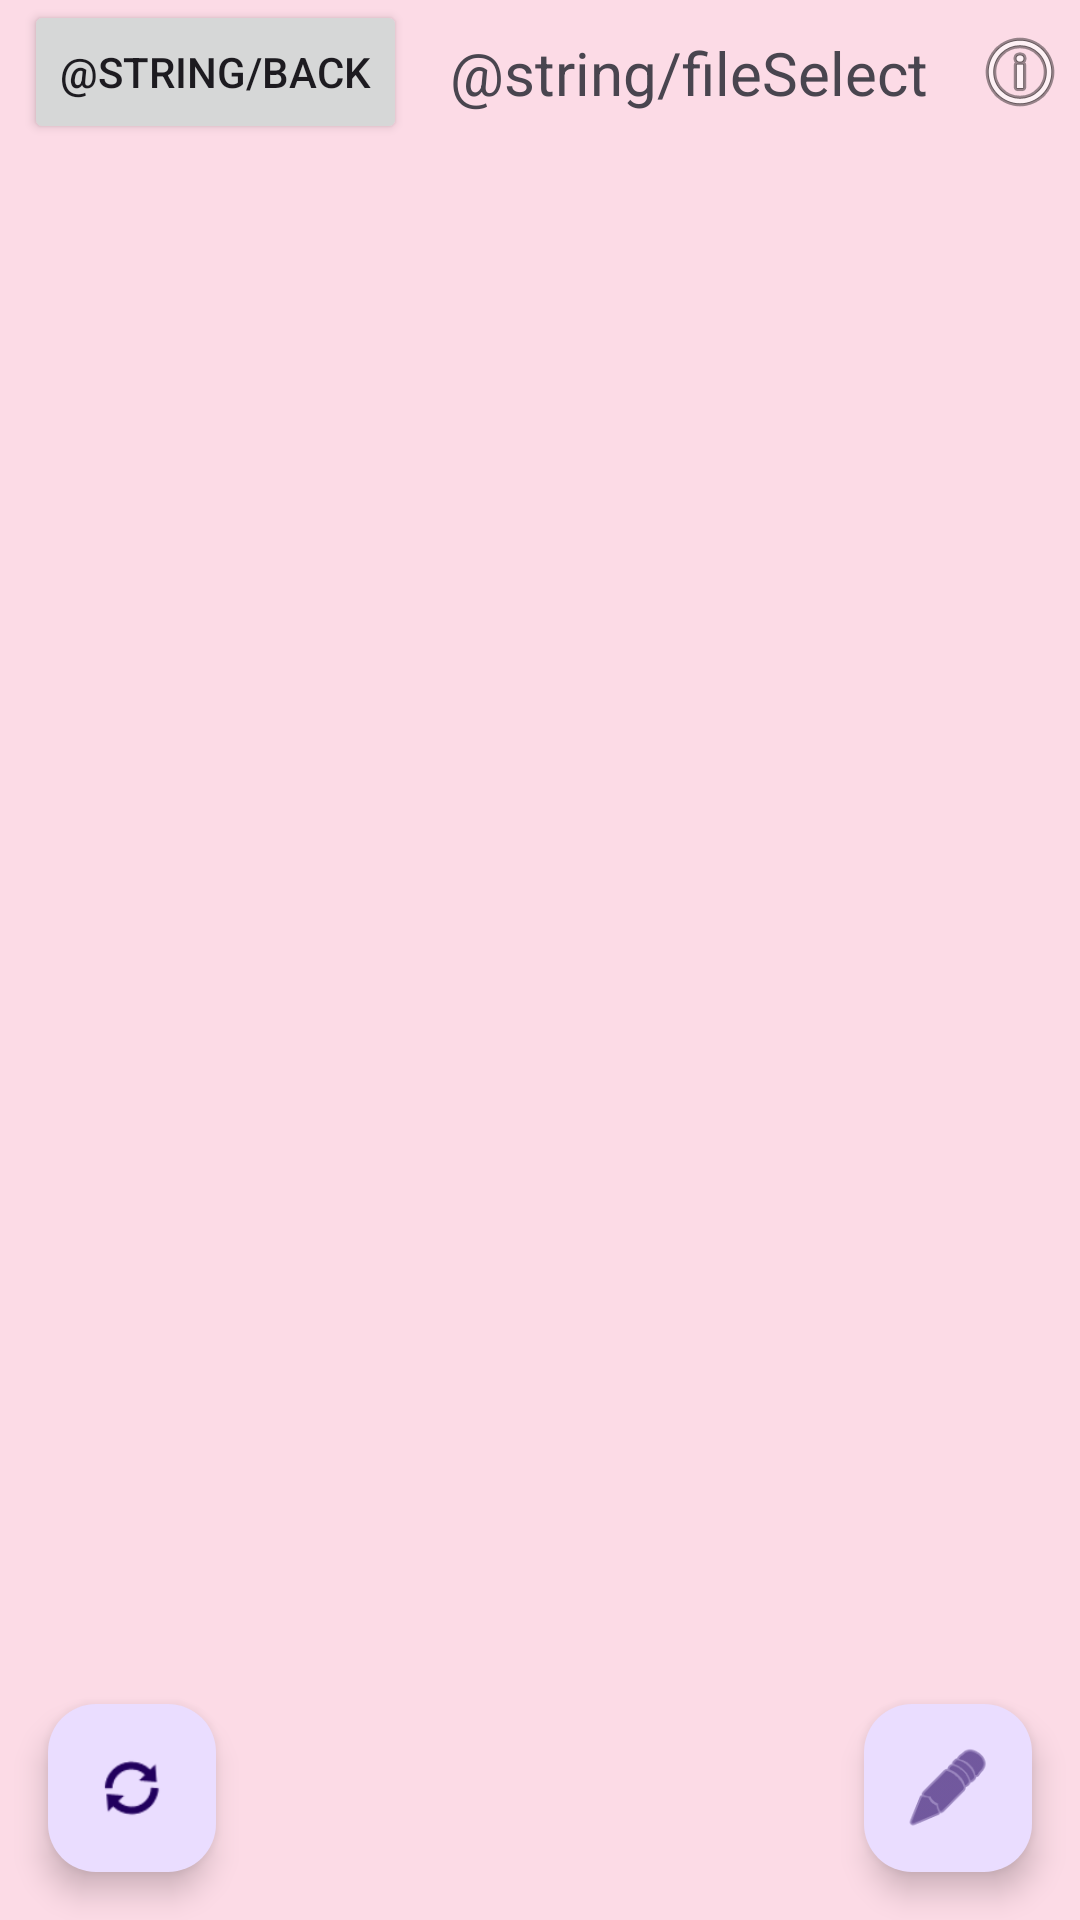

Icons on this 1080 × 1920 Android screen, each with the point to tap as (x=x, y=y):
edit: (x=948, y=1788)
info details: (x=1020, y=72)
popup sync: (x=132, y=1788)
